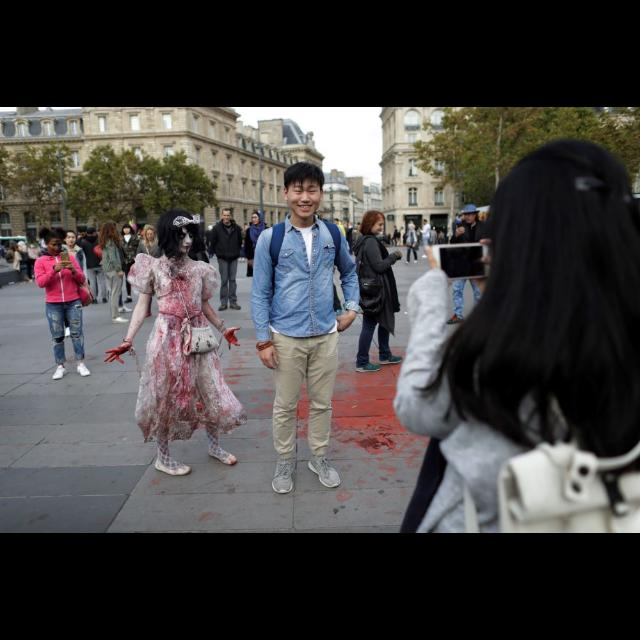head: (497, 144, 629, 314), (281, 162, 325, 220), (162, 210, 196, 256), (362, 210, 386, 236), (45, 231, 65, 257), (102, 222, 118, 238), (64, 231, 78, 247), (464, 208, 478, 224), (145, 227, 157, 243), (222, 208, 234, 224), (252, 211, 262, 225), (78, 227, 89, 239), (110, 230, 120, 242), (123, 224, 133, 236), (87, 228, 97, 238), (28, 235, 34, 242), (409, 225, 415, 231), (424, 220, 428, 226), (349, 223, 353, 227), (410, 221, 414, 225), (10, 247, 14, 251), (394, 227, 398, 230), (434, 228, 436, 232)
person: (102, 207, 250, 479), (246, 159, 364, 497), (33, 225, 93, 381), (354, 208, 406, 374), (444, 202, 492, 330), (98, 220, 134, 326), (208, 207, 244, 313), (56, 230, 90, 340), (99, 225, 135, 315), (242, 210, 274, 304), (134, 224, 164, 320), (80, 227, 110, 305), (116, 222, 144, 304), (76, 226, 100, 300), (26, 234, 42, 284), (404, 223, 420, 267), (419, 218, 433, 260), (4, 244, 20, 268), (345, 222, 355, 255), (407, 219, 417, 247), (390, 225, 400, 247), (429, 227, 439, 247)
